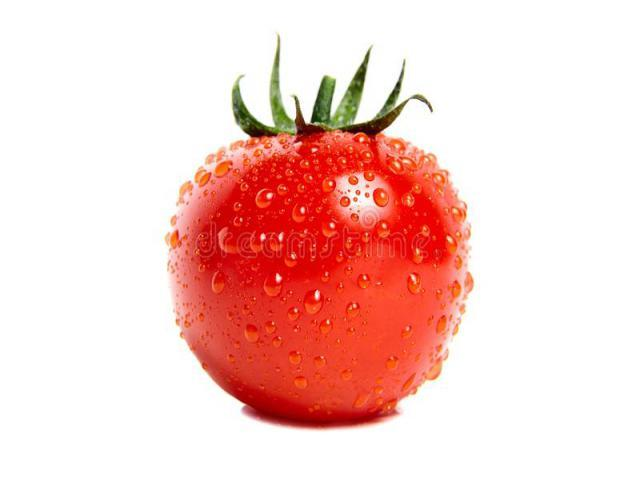tomato: (146, 127, 497, 427)
